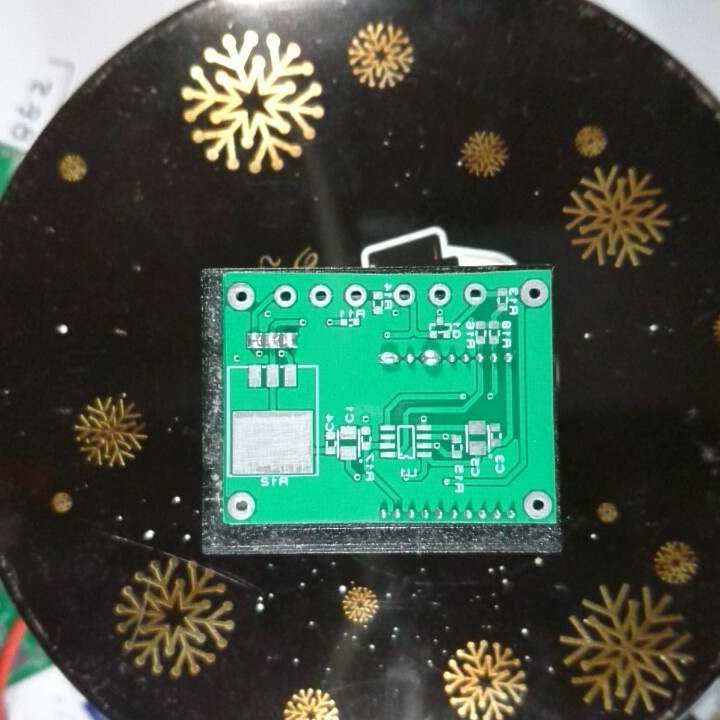F: (225, 489, 259, 522), (225, 280, 258, 313), (521, 489, 554, 520), (517, 278, 549, 309), (272, 283, 299, 310), (391, 281, 416, 309), (427, 282, 453, 308), (307, 284, 334, 309), (342, 283, 368, 308), (462, 282, 488, 307)
P: (417, 347, 443, 369), (375, 348, 401, 368)
